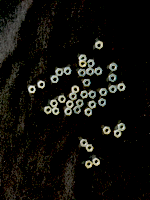nut: (95, 67, 104, 76), (109, 74, 118, 83), (96, 41, 104, 50), (110, 63, 118, 72), (87, 60, 96, 68), (79, 60, 88, 68), (51, 76, 60, 84), (78, 69, 87, 77), (83, 79, 92, 87), (118, 84, 127, 92), (28, 86, 37, 94), (58, 96, 67, 104), (89, 101, 98, 109), (76, 100, 85, 108), (50, 100, 59, 108), (85, 108, 93, 117), (74, 106, 82, 115), (44, 107, 53, 115), (81, 139, 89, 148), (93, 158, 101, 167), (64, 68, 72, 76), (56, 69, 64, 77), (87, 68, 95, 76), (38, 81, 46, 89), (72, 86, 80, 94), (110, 86, 118, 94), (89, 91, 97, 99), (81, 91, 89, 99), (70, 93, 78, 101), (99, 99, 107, 107), (67, 101, 75, 109), (65, 108, 73, 116), (52, 108, 60, 116), (115, 130, 123, 138), (104, 127, 112, 135), (85, 161, 93, 169), (100, 89, 109, 96), (119, 123, 126, 132), (86, 145, 95, 152), (79, 55, 88, 61)
